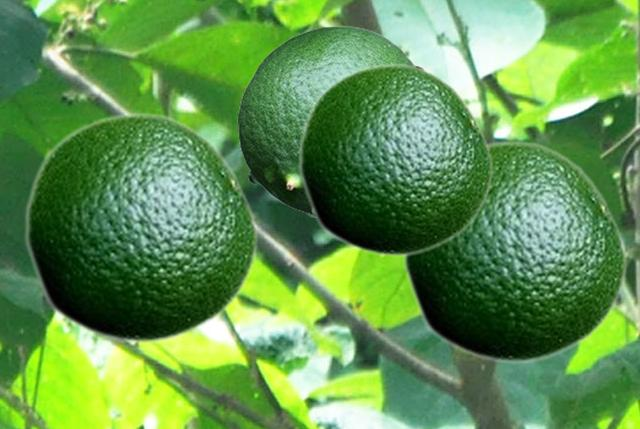calamansi: (23, 111, 258, 344), (401, 139, 627, 364), (297, 62, 493, 257), (237, 25, 426, 216)
